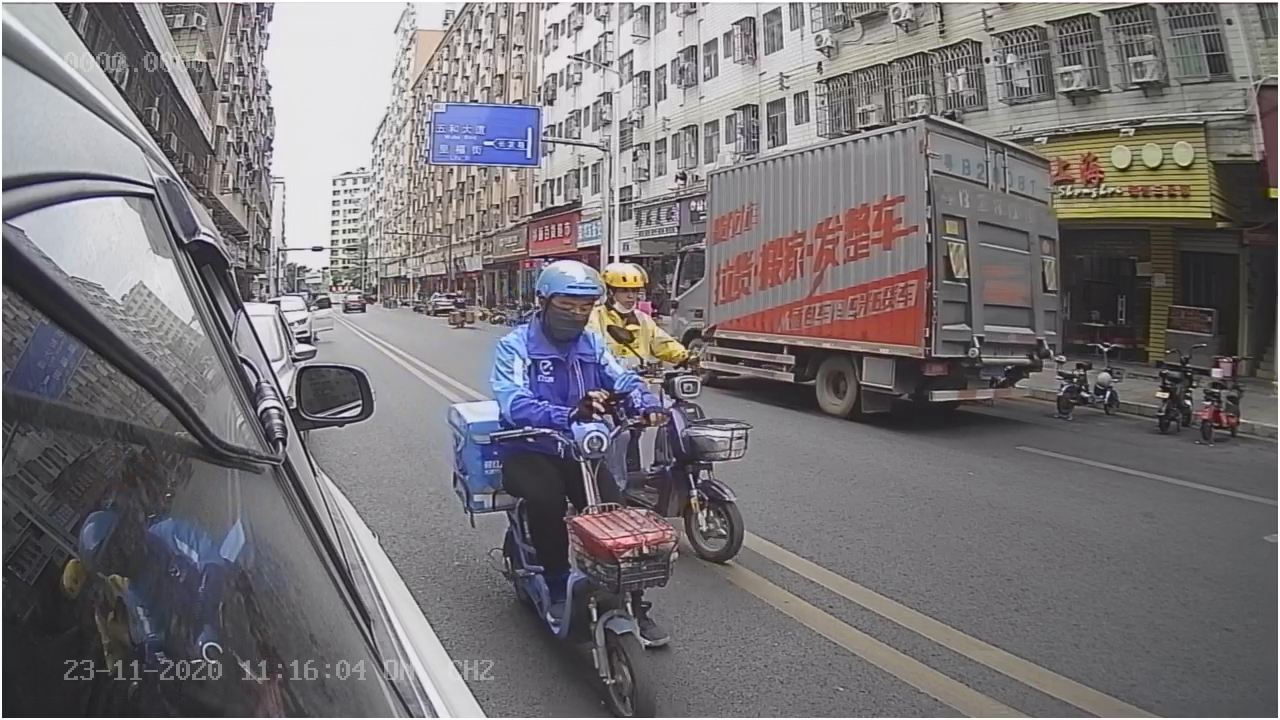person: (486, 259, 647, 409)
